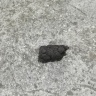Dog: (38, 45, 70, 64)
